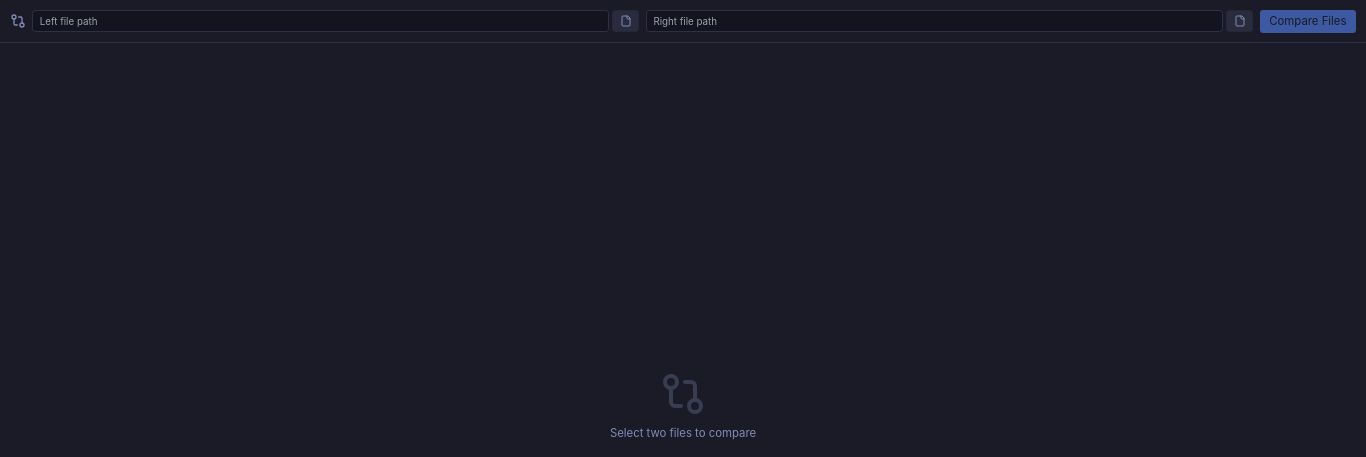
Test: DiffViewer › picking a left file via the file-picker button sets the left path
First icon button is the "select left file" trigger.
Click the 1st button: (626, 21) 612,10 -> 639,32
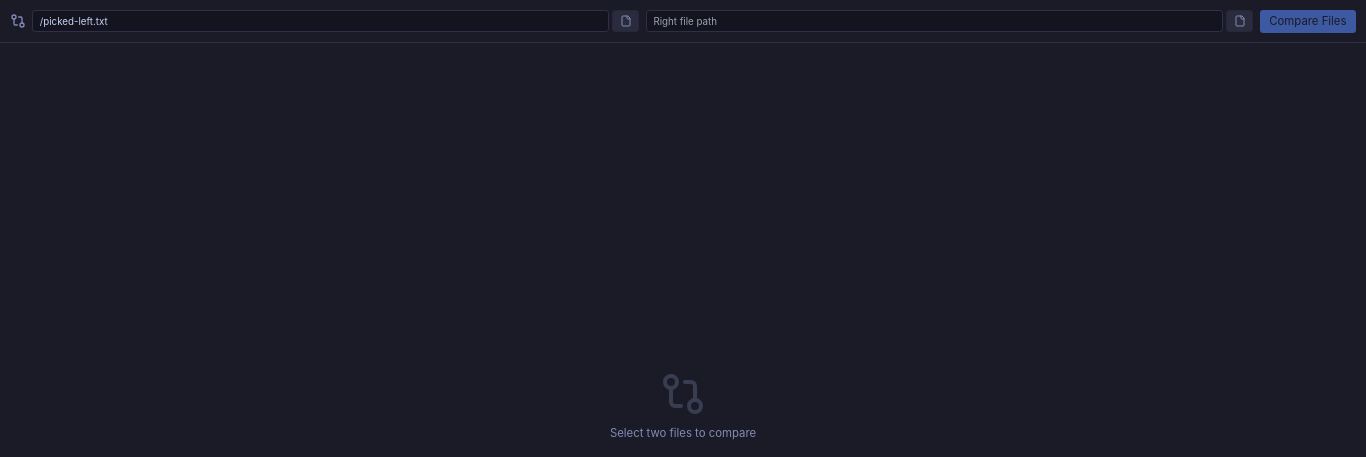
Expected: the field with placeholder "Left file path" holds "/picked-left.txt", 32,10 -> 609,32
